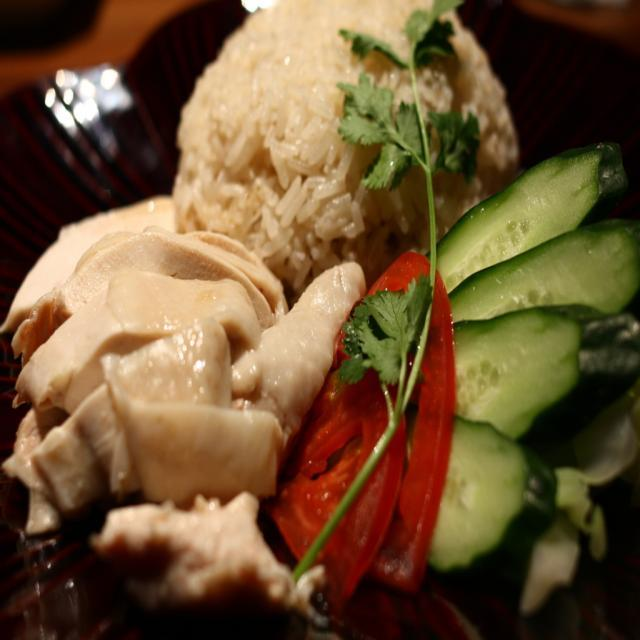Cucumber: (419, 141, 639, 567)
